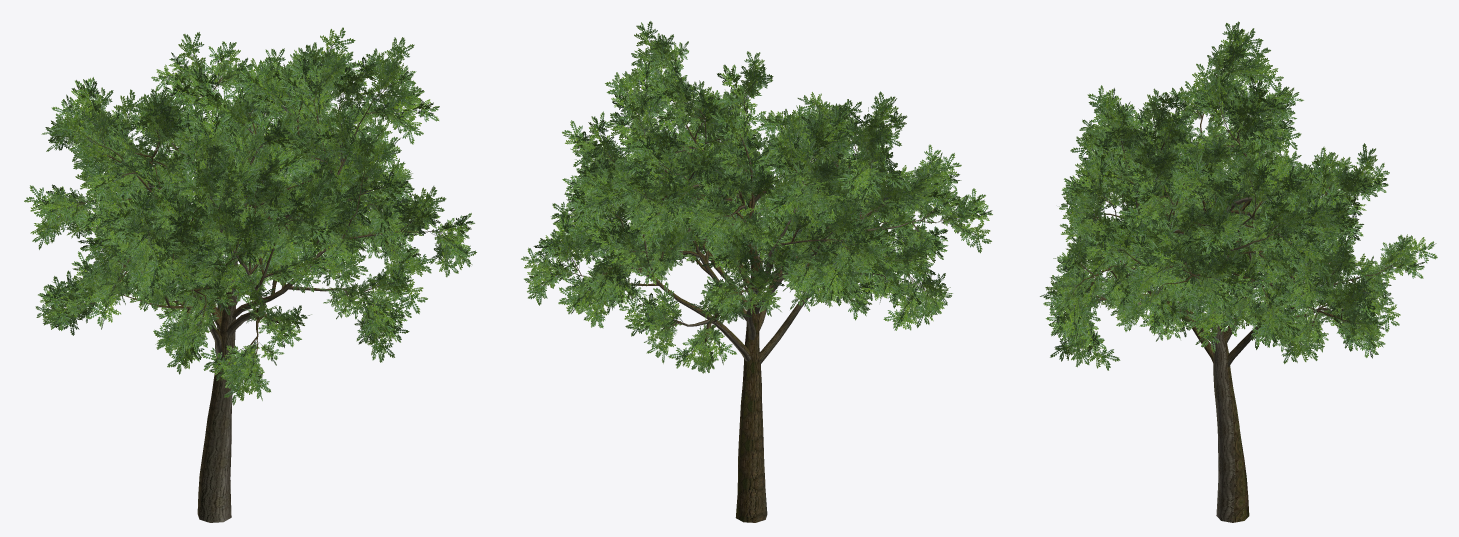
The model's file is shade-b.glb.
3 views of the same model, side by side, from view 1: azimuth 30°, elevation 25°; view 2: azimuth 150°, elevation 25°; view 3: azimuth 270°, elevation 25° (orthographic). The views are drawn at different scales.
Parts seen in each view (by area): view 1: leaves, bark; view 2: leaves, bark; view 3: leaves, bark.
Boxes of the visible parts, left/top/right/bottom form: leaves: left=24, top=27, right=476, bottom=405; bark: left=68, top=77, right=443, bottom=522; leaves: left=521, top=21, right=992, bottom=373; bark: left=571, top=79, right=958, bottom=522; leaves: left=1040, top=21, right=1437, bottom=370; bark: left=1072, top=64, right=1392, bottom=522.
Size of the model in its own units: 0.8737 by 1 by 0.836.
Materials: 2 (2 with a texture image).
